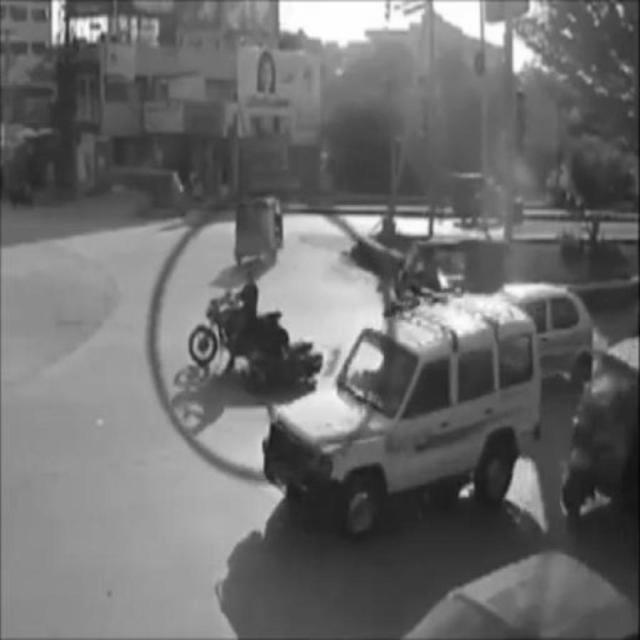accident: (189, 271, 329, 407)
vehicle: (266, 293, 544, 536), (236, 192, 283, 265)
